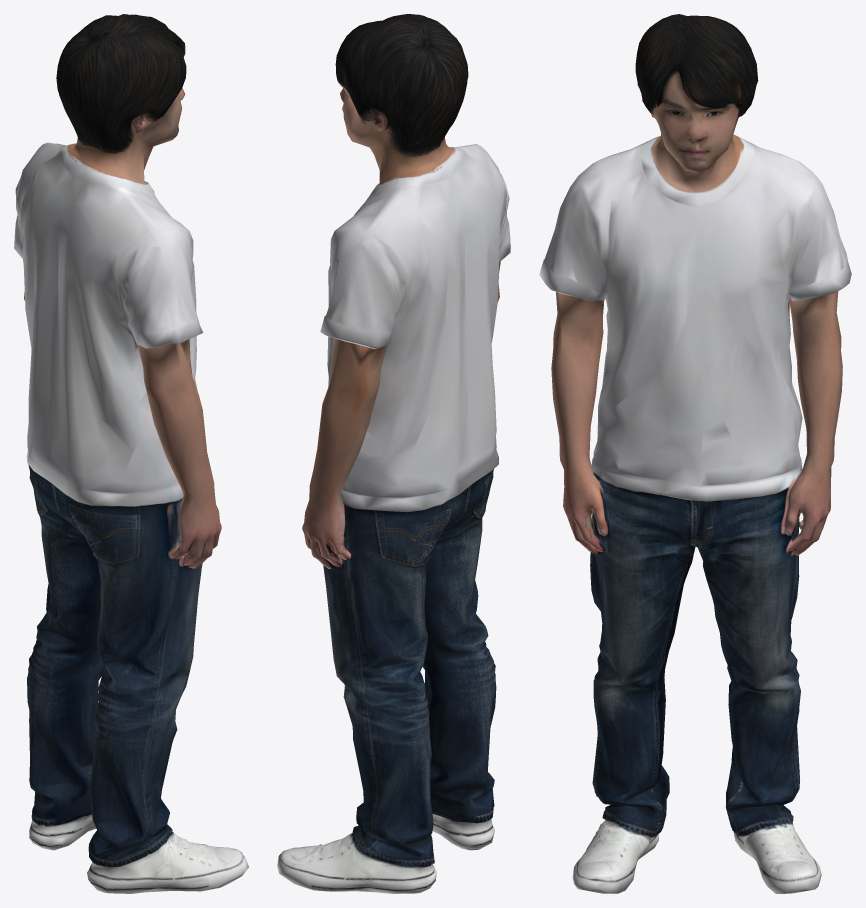
Rendered from human.glb.
3 views of the same model, side by side, from view 1: azimuth 30°, elevation 25°; view 2: azimuth 150°, elevation 25°; view 3: azimuth 270°, elevation 25° (orthographic).
Parts seen in each view (by area): view 1: JPGV00_M01_L10k_0; view 2: JPGV00_M01_L10k_0; view 3: JPGV00_M01_L10k_0.
Part boxes in pixels (x1,y1,x2,y2): JPGV00_M01_L10k_0: [14, 14, 248, 893]; JPGV00_M01_L10k_0: [277, 14, 510, 893]; JPGV00_M01_L10k_0: [539, 14, 851, 893].
Size of the model in its own units: 0.3227 by 1.75 by 0.584.
Materials: 1 (1 with a texture image).
